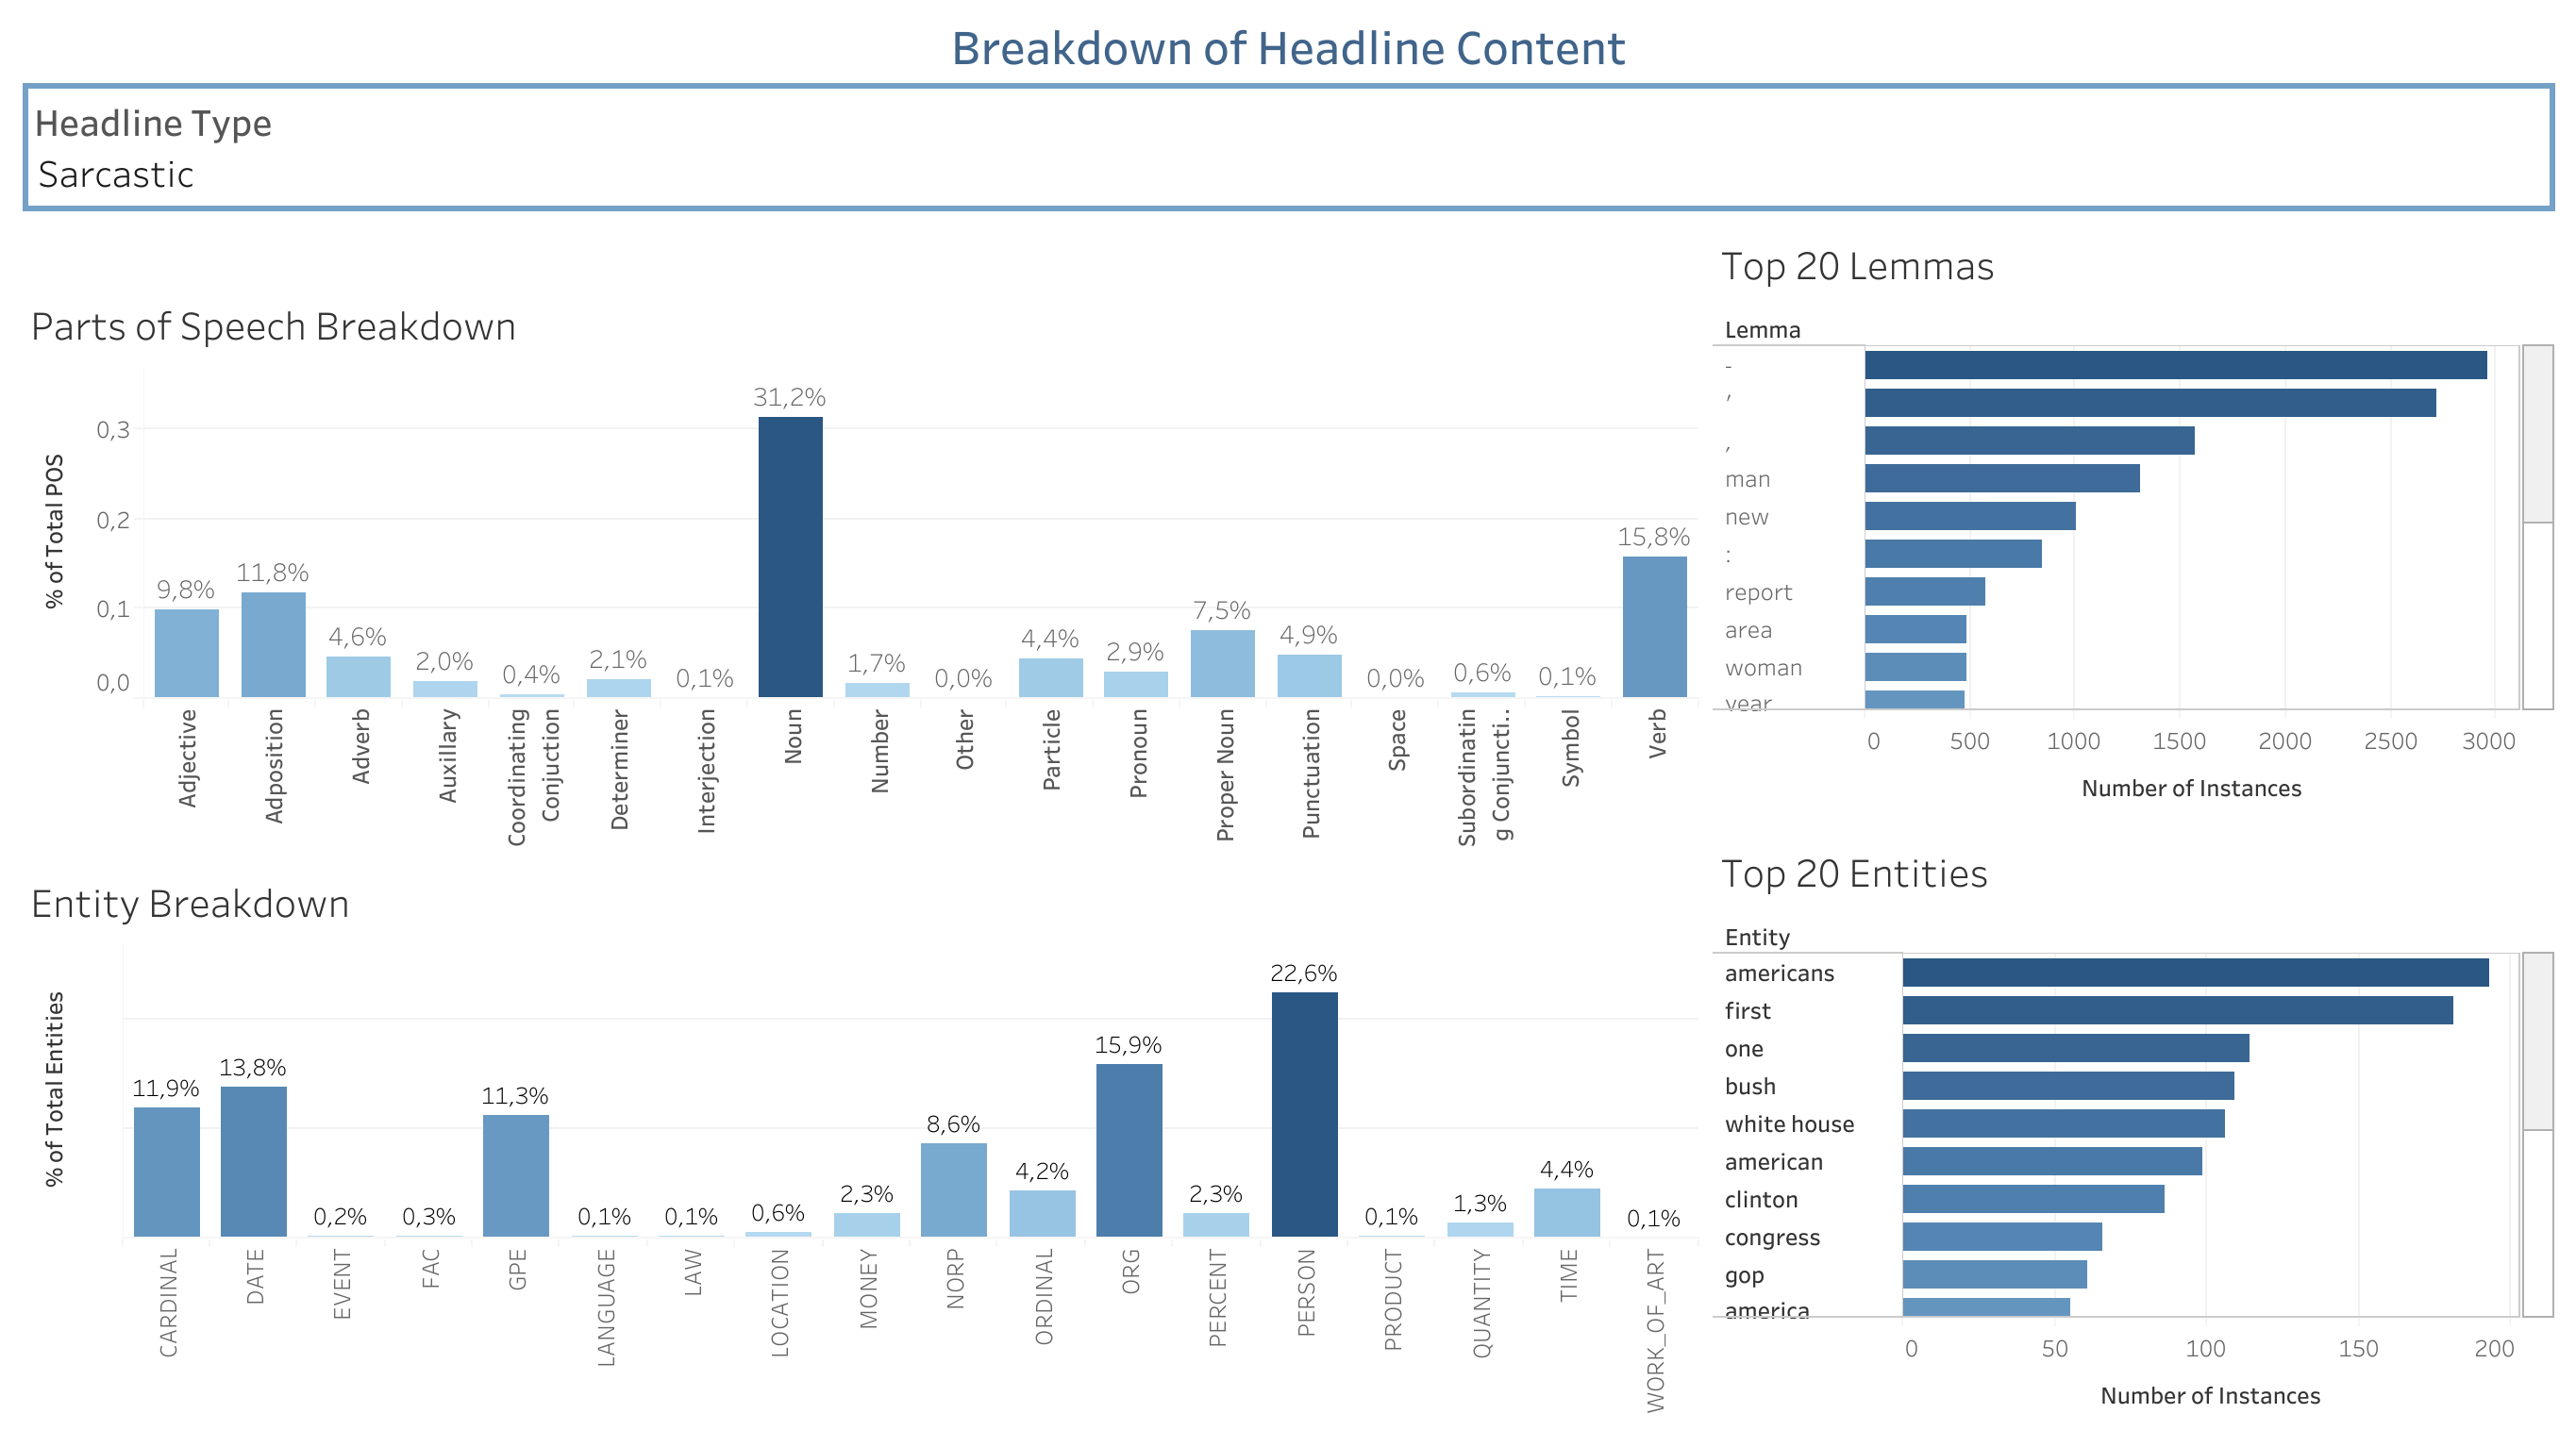

This screenshot's page, from the dashboard's own definition file:
{"tool":"tableau","page":{"name":"Dashboard 1","canvas":[1366,768],"ordinal":0},"visuals":[{"type":"text","box":[8,8,1350,32]},{"type":"filter","title":"Top 20 Entities","param":"[federated.1fluzku0afda1712zv0y70yzlxny].[none:is_sarcastic:nk]","box":[8,40,1350,73]},{"type":"worksheet","title":"Top 20 Lemmas","mark":"Automatic","rows":["is_sarcastic","F1"],"cols":["lemmas"],"box":[904.2,116,453.8,322]},{"type":"worksheet","title":"Parts of Speech Breakdown","mark":"Bar","box":[8,148,896.2,306]},{"type":"worksheet","title":"Top 20 Entities","mark":"Automatic","rows":["is_sarcastic","F1"],"cols":["entities"],"box":[904.2,438,453.8,322]},{"type":"worksheet","title":"Entity Breakdown","mark":"Bar","box":[8,454,896.2,306]}]}

Visuals, with their boxes in screenshot pixels (x1, y1, x2, y2), scaled from the page's 1366x768 canvas onto the 2576x1447 screenshot:
text: 15,15,2561,75
"Top 20 Entities" filter: 15,75,2561,213
"Top 20 Lemmas" worksheet: 1705,219,2561,825
"Parts of Speech Breakdown" worksheet (Bar marks): 15,279,1705,856
"Top 20 Entities" worksheet: 1705,825,2561,1432
"Entity Breakdown" worksheet (Bar marks): 15,856,1705,1432
